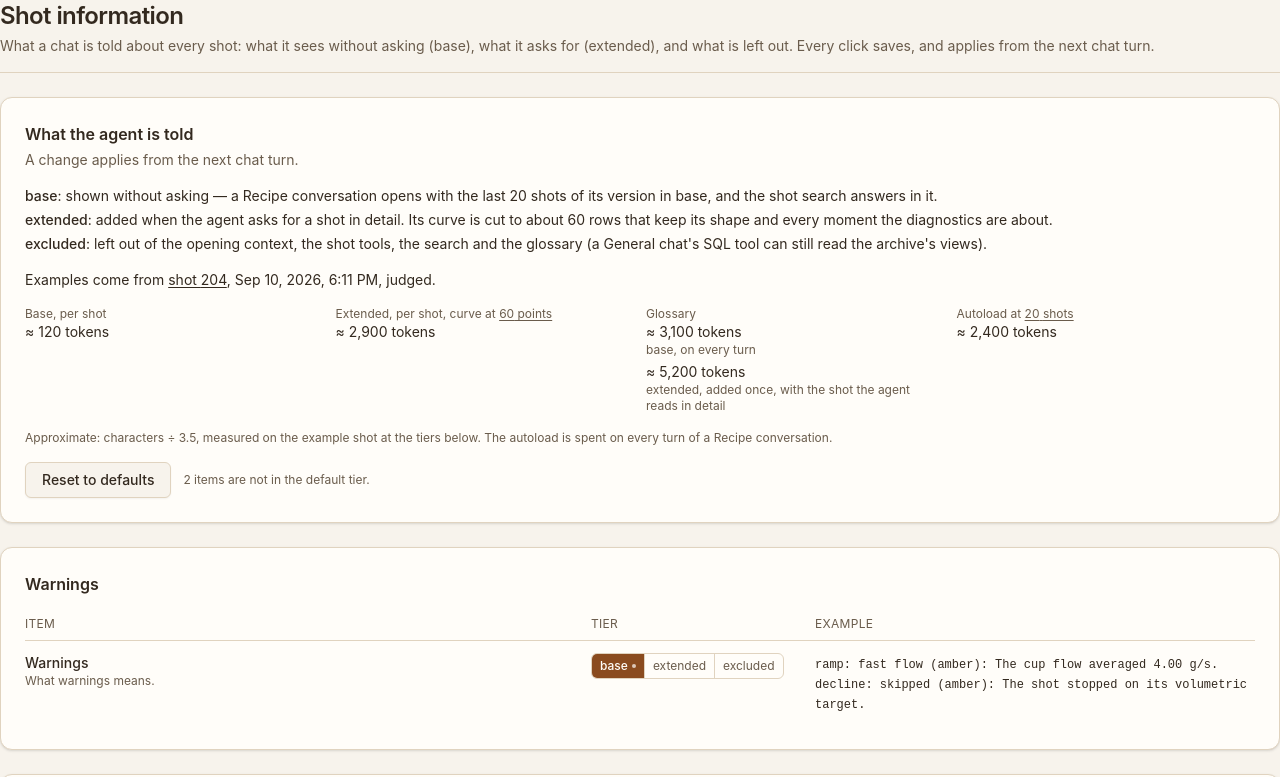
it: ShotInformationPage › asks inline before a reset, and only then sends it
Check: the text "2 items are not in the default tier." is shown, box x1=183 y1=472 x2=370 y2=488
Click the button "Reset to defaults": click(98, 480) x1=25 y1=462 x2=171 y2=498
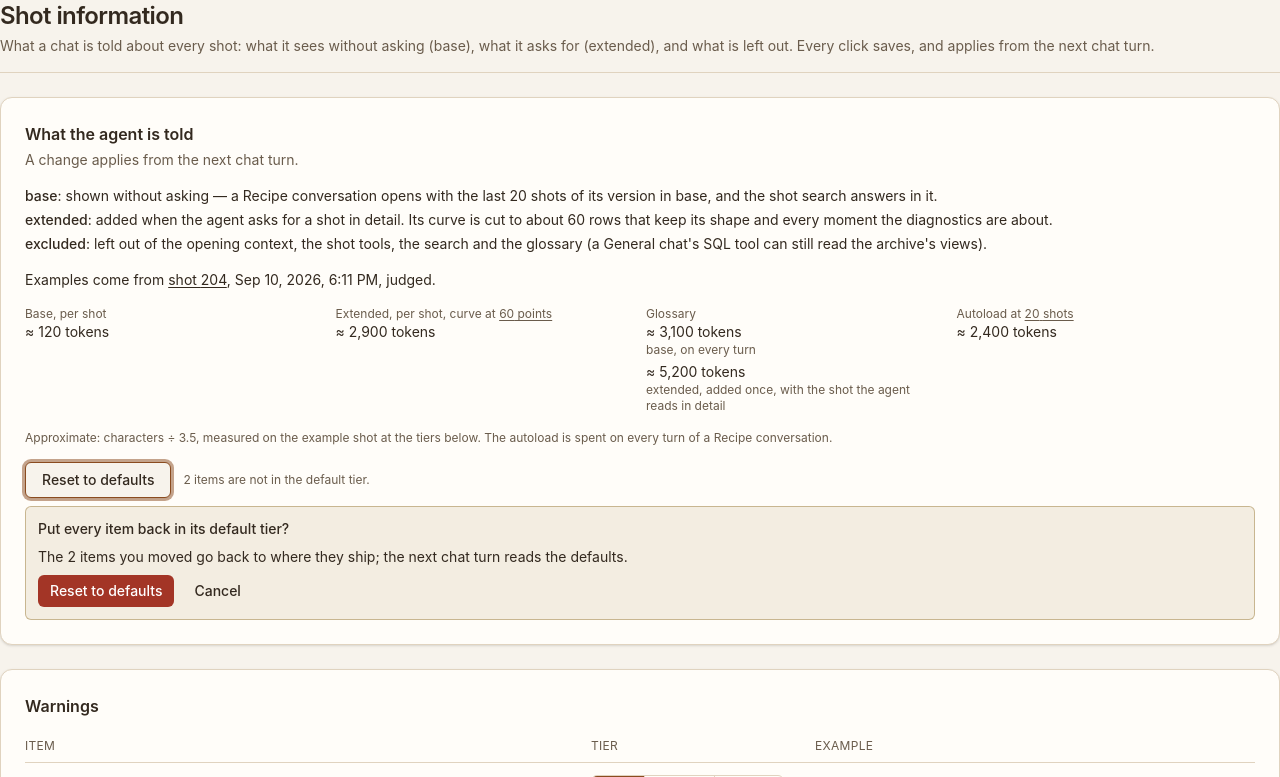
Check: the element with test id "reset-confirm" shows "The 2 items you moved go back", box x1=25 y1=506 x2=1255 y2=620
Click the button "Cancel": click(218, 591) x1=182 y1=575 x2=253 y2=607
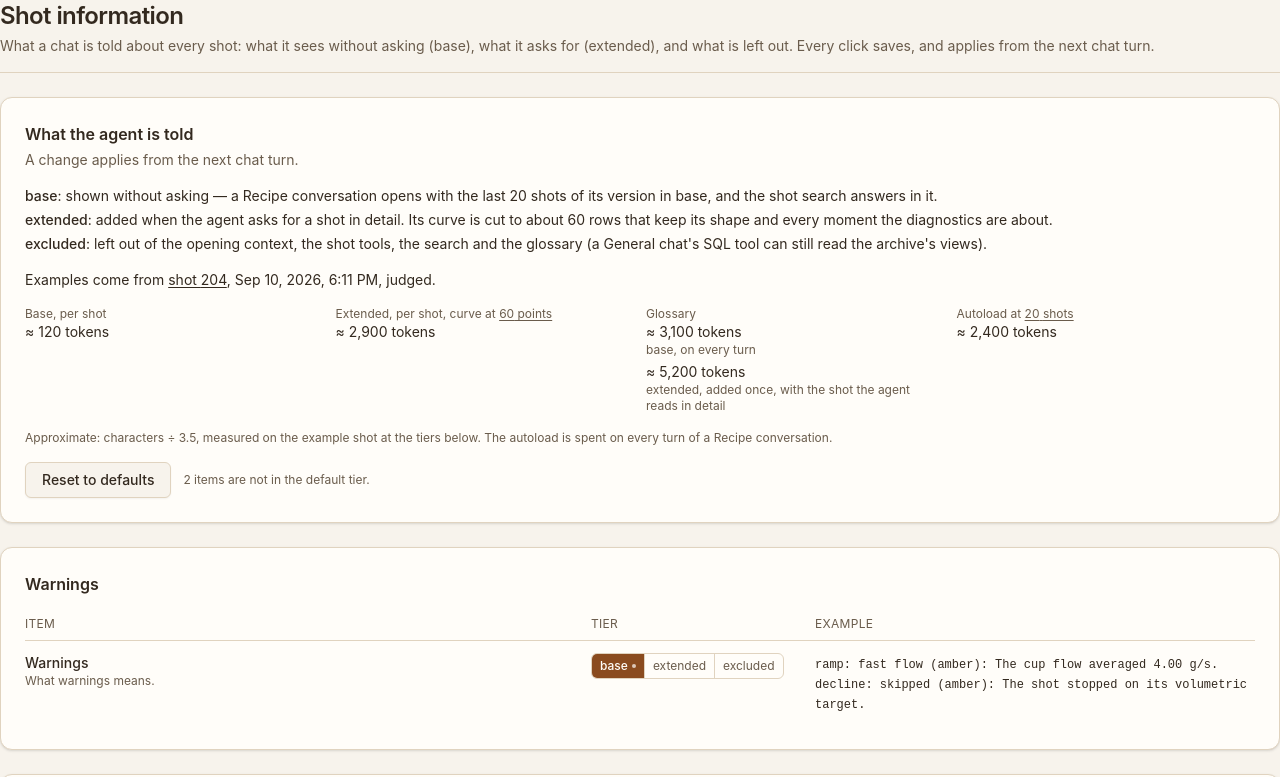
Check: the element with test id "reset-confirm" is gone
Click the button "Reset to defaults": click(98, 480) x1=25 y1=462 x2=171 y2=498
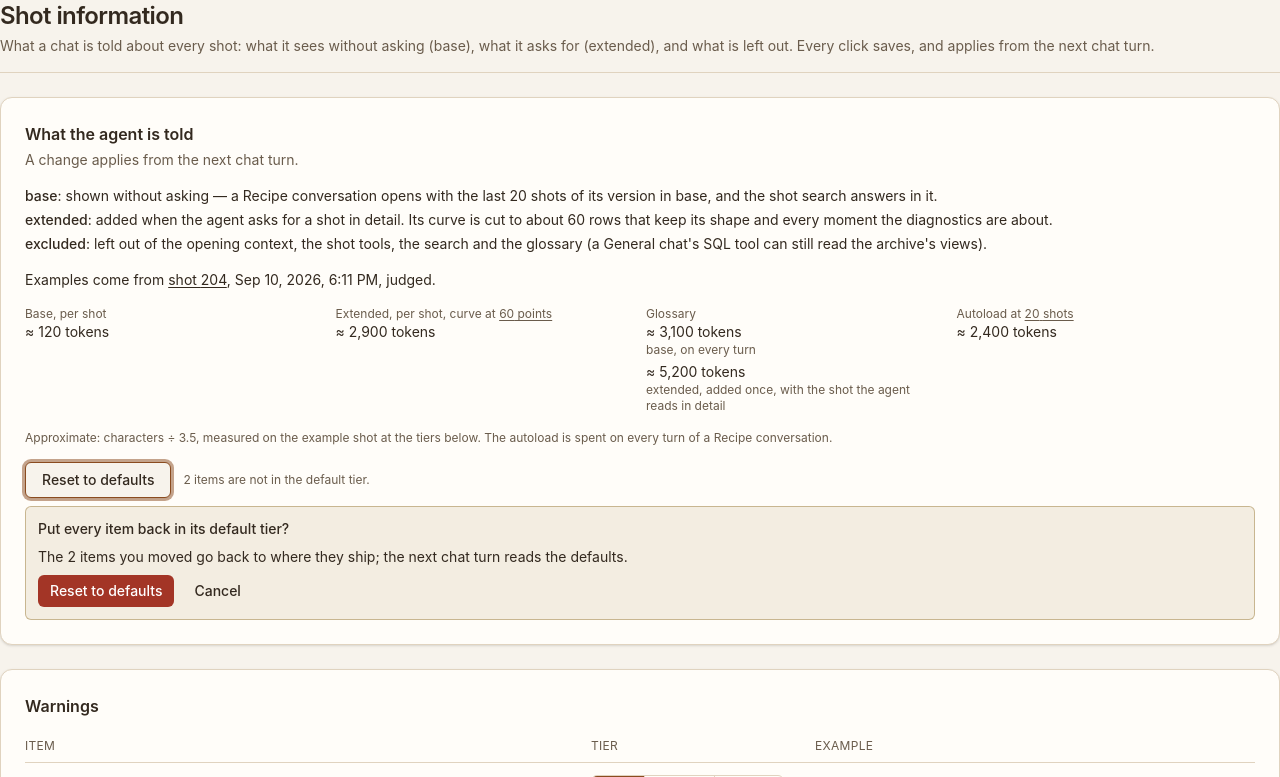
Click the button "Reset to defaults" below "The 2 items": click(106, 591) x1=38 y1=575 x2=174 y2=607
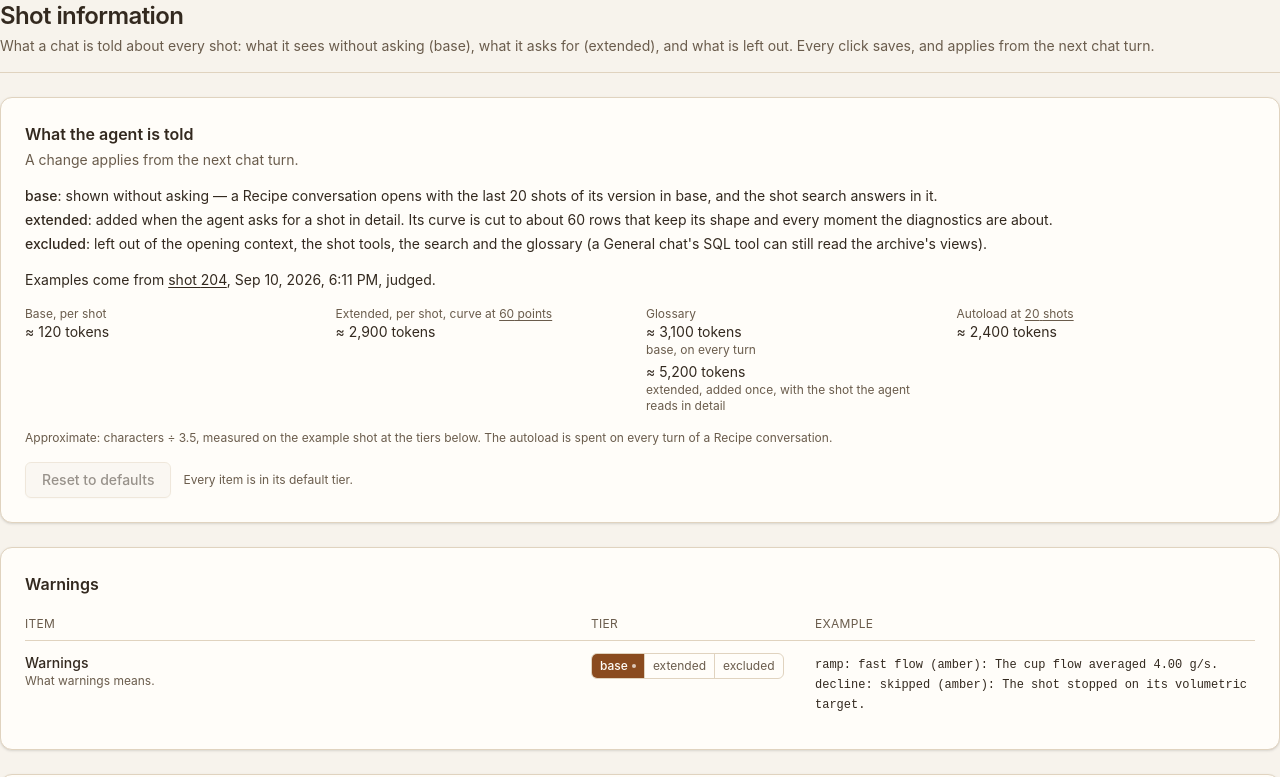
Check: the text "Every item is in its default tier." is shown, box x1=183 y1=472 x2=353 y2=488
Check: the button "Reset to defaults" is disabled, box x1=25 y1=462 x2=171 y2=498
